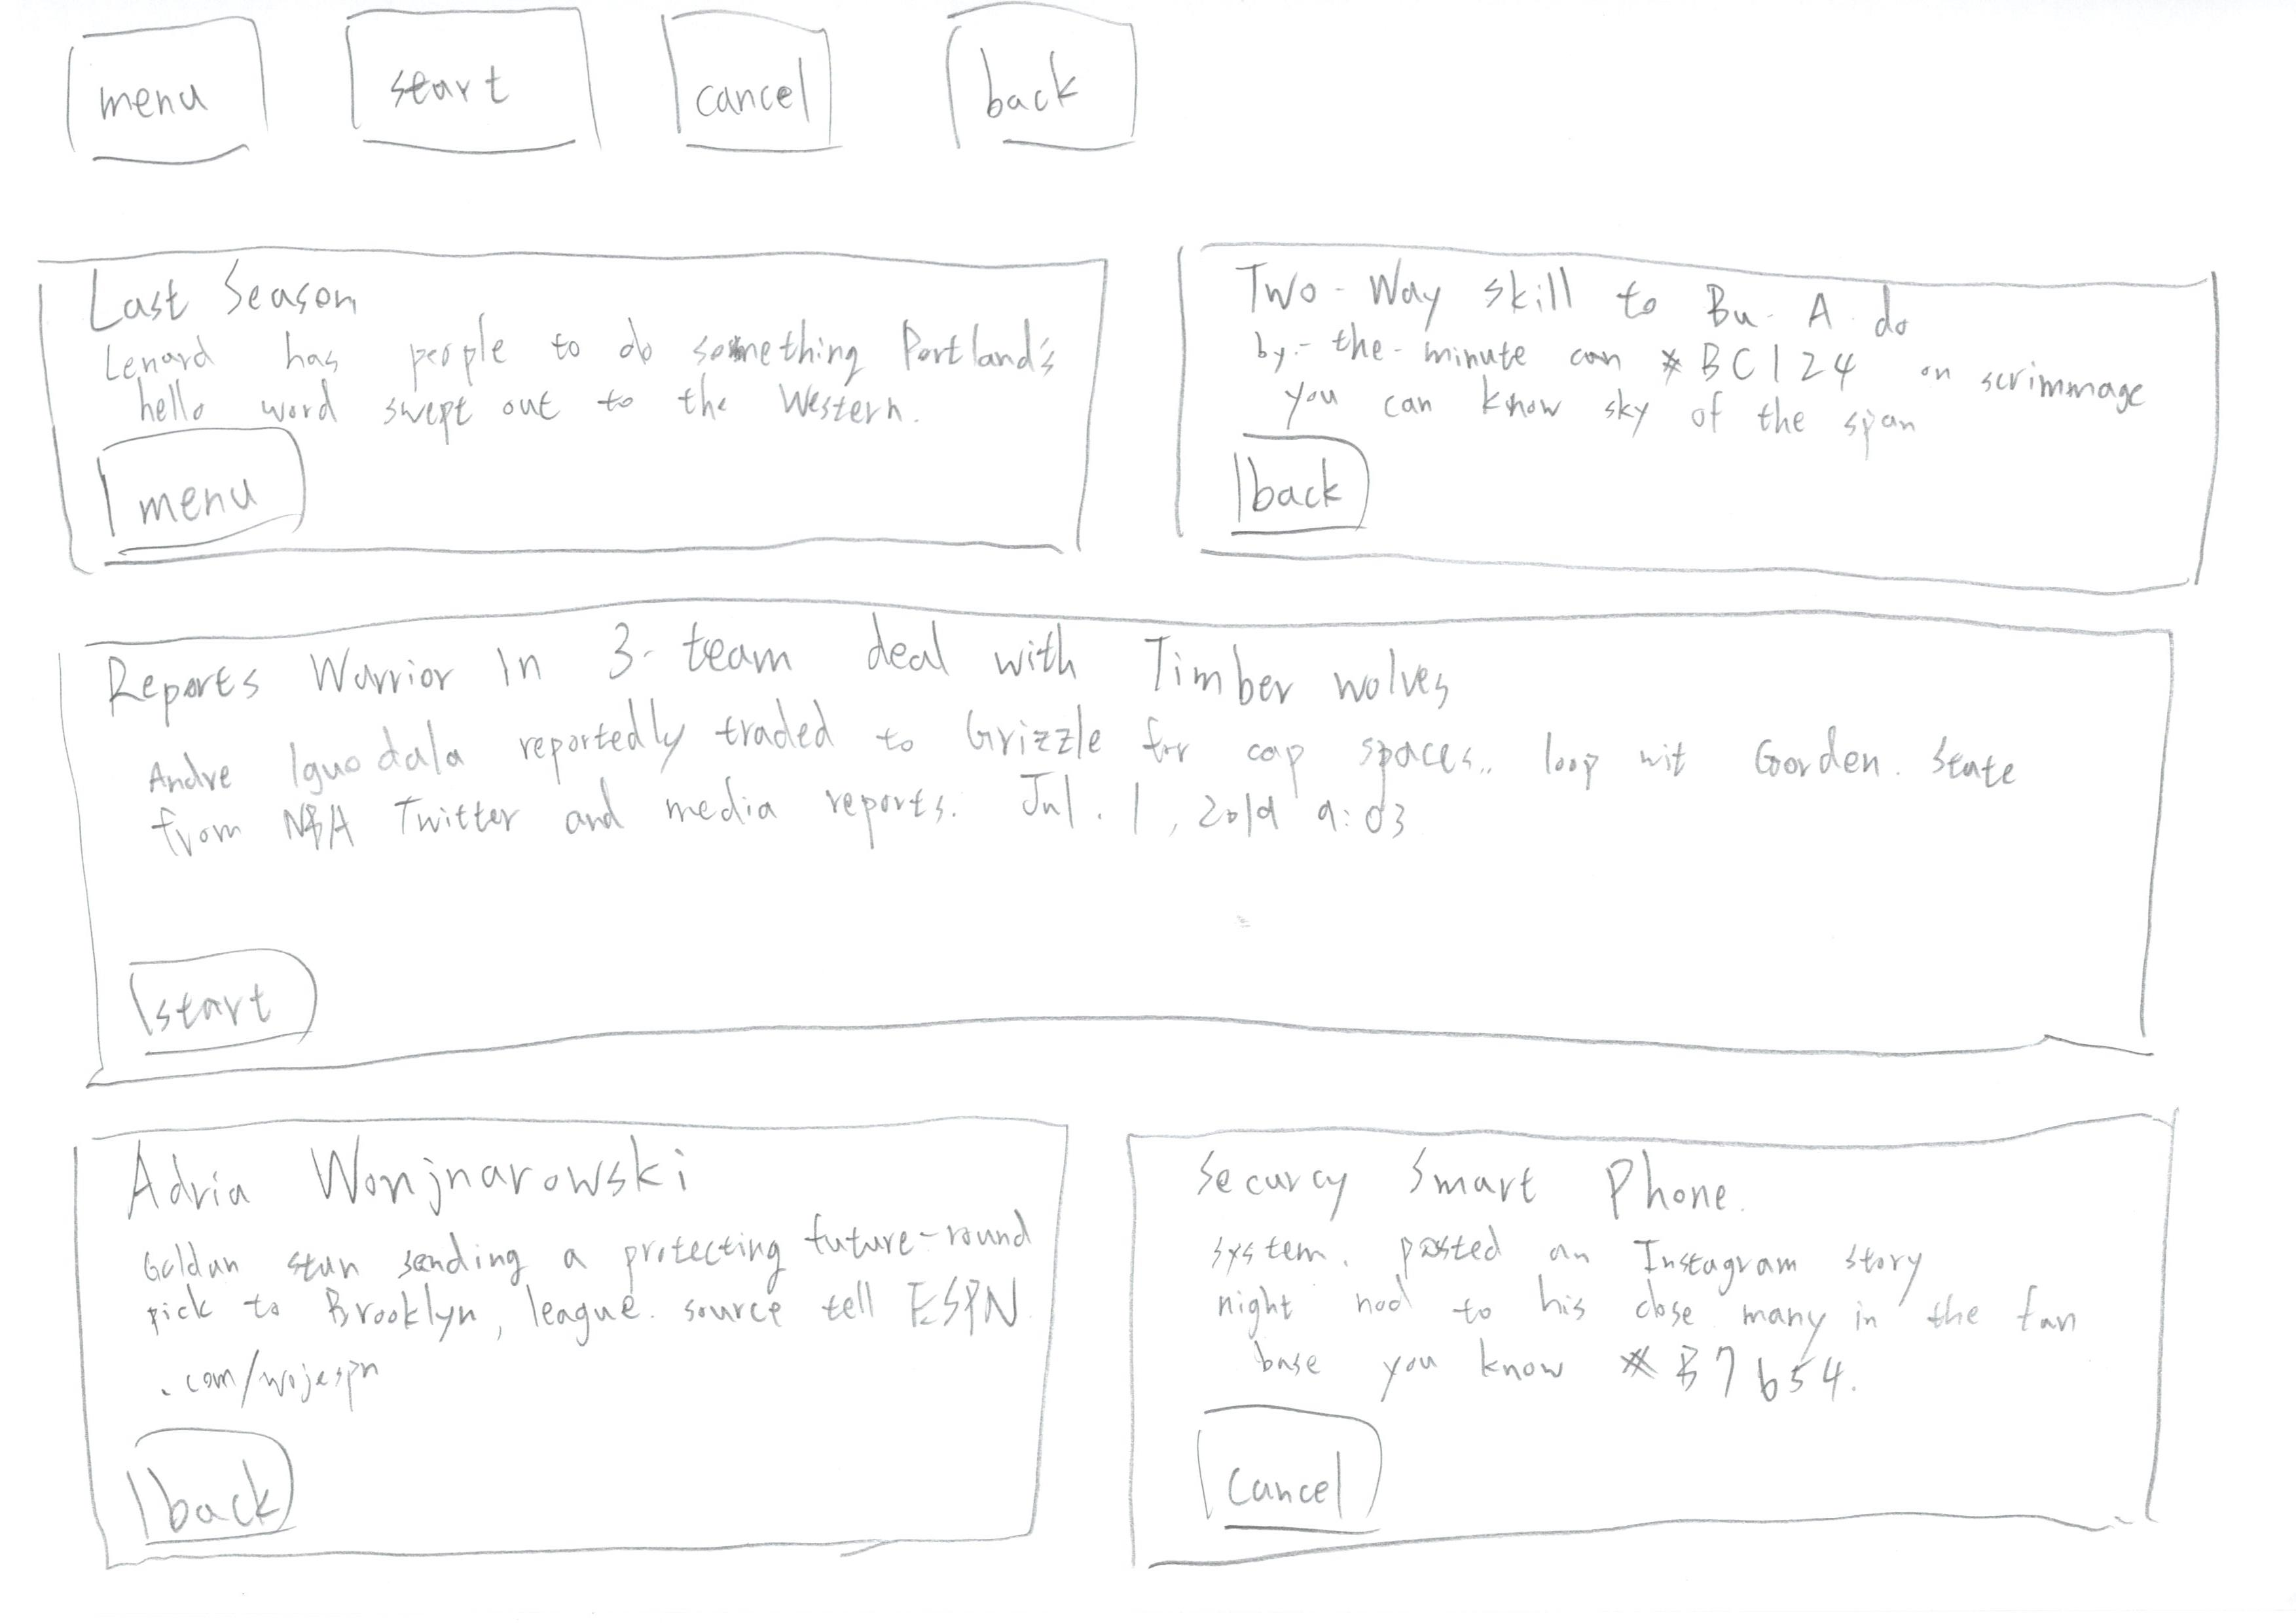back: (918, 0, 1178, 197), (107, 1415, 316, 1547), (1217, 410, 1380, 571)
cancel: (640, 0, 897, 179), (1181, 1396, 1426, 1545)
double: (1097, 1077, 2261, 1594), (33, 1083, 1102, 1596), (1134, 211, 2247, 603), (12, 214, 1125, 605)
menu: (26, 0, 283, 188), (69, 413, 341, 573)
row: (7, 1084, 2296, 1605), (7, 605, 2296, 1088), (7, 214, 2296, 624), (7, 0, 2296, 211)
single: (5, 587, 2256, 1106)
small-title: (81, 645, 1471, 703), (1238, 255, 1937, 344), (1176, 1127, 1758, 1225), (81, 1139, 705, 1202), (86, 271, 376, 313)
start: (343, 0, 628, 192), (88, 926, 343, 1081)
text: (125, 708, 2101, 870), (113, 1223, 1044, 1396), (1211, 1229, 2076, 1401), (1257, 311, 2166, 446), (95, 315, 1057, 439)
